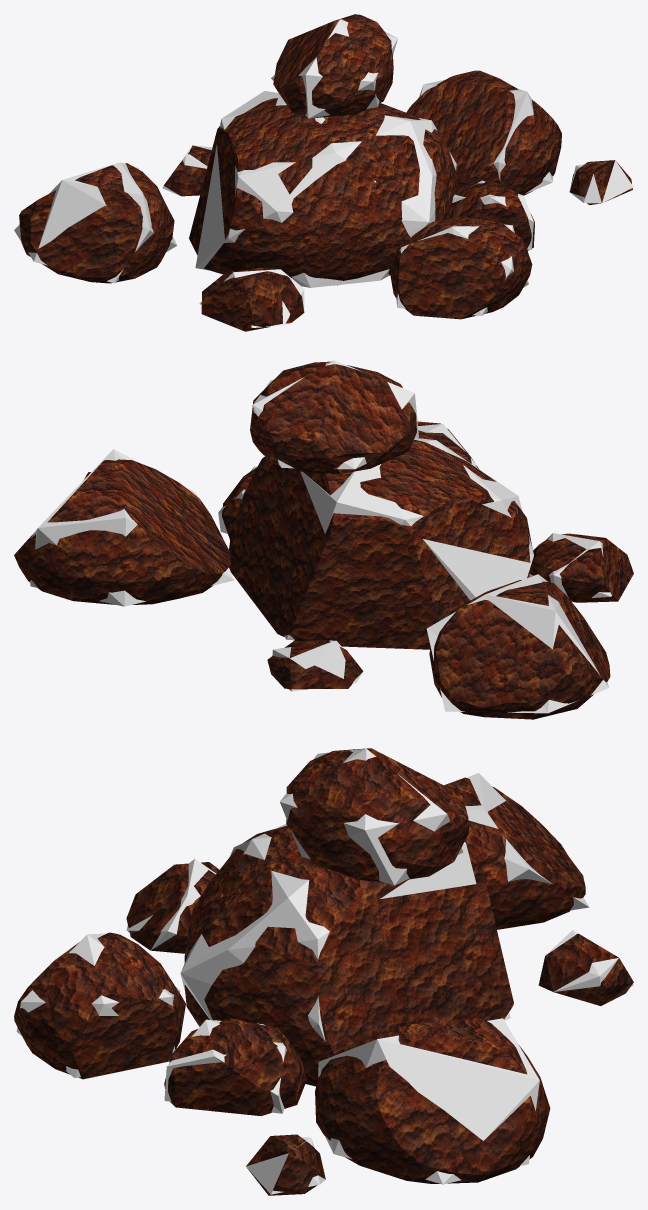
File: Laterita-06-Kopje.glb
3 views of the same model, one above another, from view 1: azimuth 30°, elevation 25°; view 2: azimuth 150°, elevation 25°; view 3: azimuth 270°, elevation 25° (orthographic). The views are drawn at different scales.
Visible parts, largest first — view 1: Laterita-06-Kopje, Laterita-06-Kopje_COL; view 2: Laterita-06-Kopje, Laterita-06-Kopje_COL; view 3: Laterita-06-Kopje, Laterita-06-Kopje_COL.
Part boxes in pixels (x1,y1,x2,y2): Laterita-06-Kopje: [19, 14, 632, 331]; Laterita-06-Kopje_COL: [14, 19, 633, 327]; Laterita-06-Kopje: [14, 361, 633, 719]; Laterita-06-Kopje_COL: [30, 360, 611, 713]; Laterita-06-Kopje: [14, 748, 633, 1195]; Laterita-06-Kopje_COL: [16, 748, 633, 1194].
Size of what is drawn, in the model's own units: 9.41 by 3.52 by 7.04.
1 material, 1 textured.
